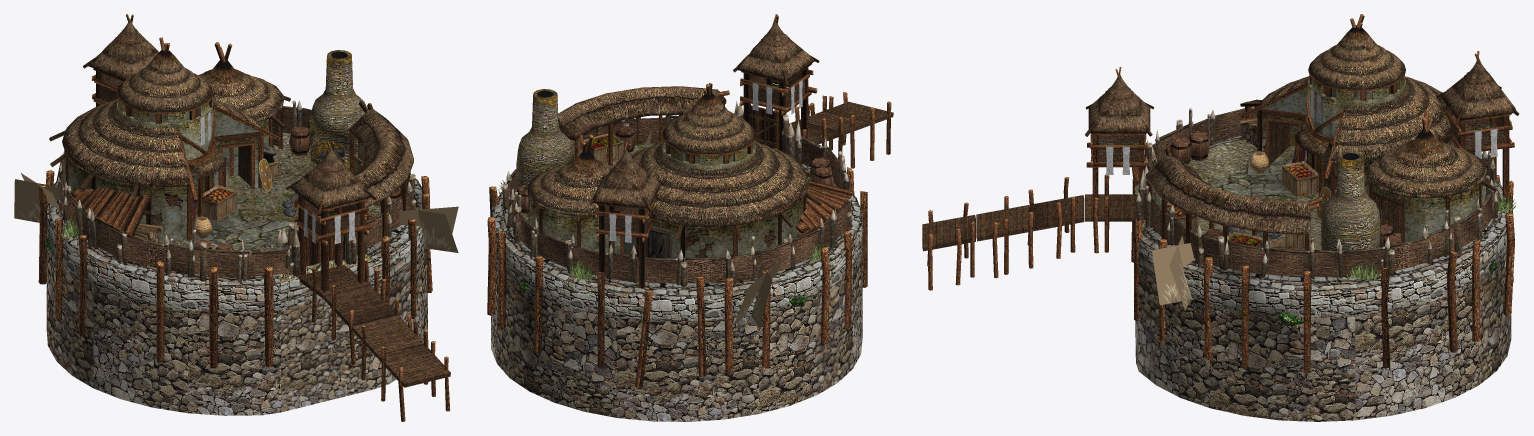
Rendered from crannog.glb.
The picture shows the model from 3 angles, left to right: view 1: azimuth 30°, elevation 25°; view 2: azimuth 150°, elevation 25°; view 3: azimuth 270°, elevation 25°; orthographic projection. The views are drawn at different scales.
Parts seen in each view (by area): view 1: crannog_part0, crannog_part3, crannog_part2, crannog_part1, crannog_part8, crannog_part9; view 2: crannog_part0, crannog_part3, crannog_part1, crannog_part9, crannog_part5; view 3: crannog_part0, crannog_part3, crannog_part1, crannog_part2, crannog_part8.
Boxes of the visible parts, x1,y1,x2,y2 form: crannog_part0: (38,14,450,421); crannog_part3: (46,100,427,415); crannog_part2: (159,132,400,283); crannog_part1: (134,111,400,249); crannog_part8: (398,206,458,252); crannog_part9: (14,173,60,222); crannog_part0: (487,14,893,387); crannog_part3: (491,100,862,421); crannog_part1: (517,80,834,258); crannog_part9: (734,259,782,327); crannog_part5: (566,259,595,281); crannog_part0: (922,14,1519,372); crannog_part3: (1135,106,1511,421); crannog_part1: (1090,88,1497,250); crannog_part2: (1135,139,1400,250); crannog_part8: (1152,236,1194,310).
Bounding box in the file's own units: 3.34 × 2.77 × 5.
7 materials, 7 textured.
